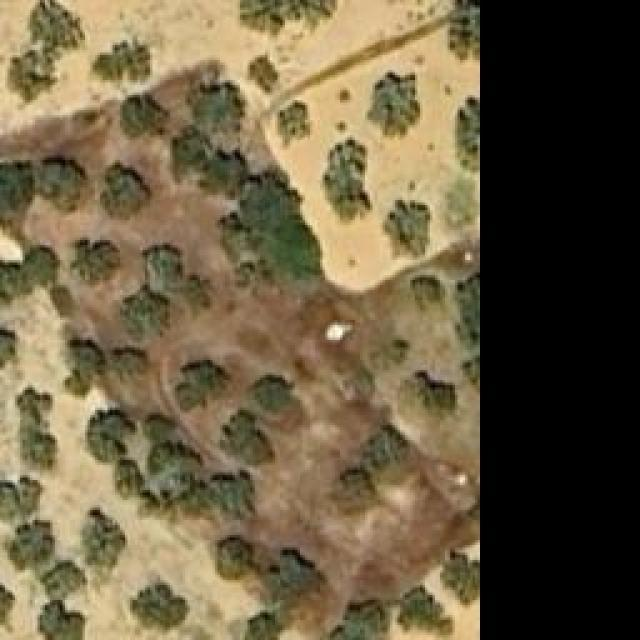Tree: (323, 140, 376, 223), (365, 70, 423, 138), (238, 0, 338, 38), (398, 370, 458, 428), (263, 550, 326, 605), (145, 448, 203, 503), (185, 83, 245, 133), (382, 198, 430, 258), (3, 520, 56, 573), (83, 505, 126, 570), (130, 585, 188, 633), (70, 238, 120, 291), (30, 0, 83, 50), (175, 360, 228, 410), (218, 415, 271, 465), (35, 158, 85, 208), (328, 468, 378, 518), (437, 0, 477, 62), (398, 595, 453, 640), (10, 52, 60, 100), (92, 40, 150, 80), (365, 418, 408, 471), (120, 93, 170, 138), (103, 165, 143, 220), (198, 147, 243, 195), (208, 472, 253, 520), (15, 428, 58, 478), (90, 408, 130, 461), (442, 548, 480, 603), (125, 290, 168, 338), (453, 95, 478, 173), (0, 159, 30, 224), (0, 478, 45, 521), (405, 270, 448, 313), (37, 602, 85, 640), (170, 135, 210, 178), (40, 560, 88, 595), (143, 242, 186, 280), (63, 340, 103, 378), (213, 538, 248, 581), (278, 103, 311, 148), (22, 245, 60, 283), (18, 385, 53, 423), (248, 53, 278, 93), (255, 378, 290, 411), (243, 610, 283, 638), (113, 350, 143, 380), (0, 323, 18, 371), (140, 415, 168, 445)
